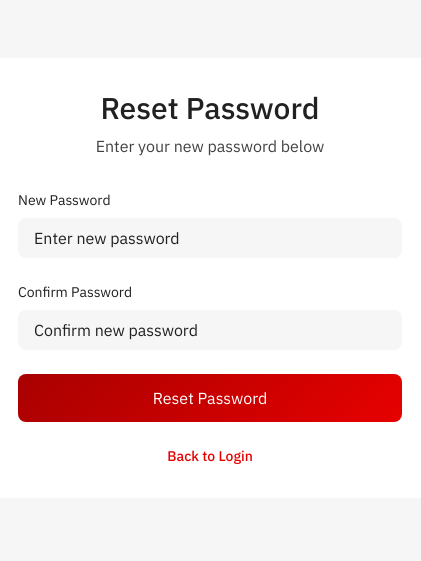
it: ResetPasswordPage › shows mismatch validation error when passwords do not match
Type "Validpass123!" into the password field with test id "new-password-input".
click(210, 238); type("Validpass123!")  # box [18,218,402,258]
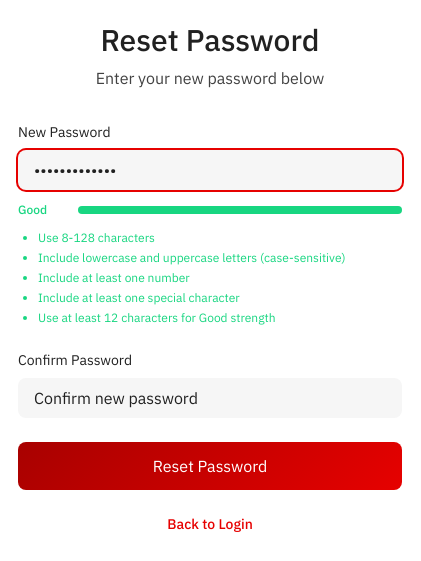
Type "Differentpass123!" into the password field with test id "confirm-password-input".
click(210, 398); type("Differentpass123!")  # box [18,378,402,418]
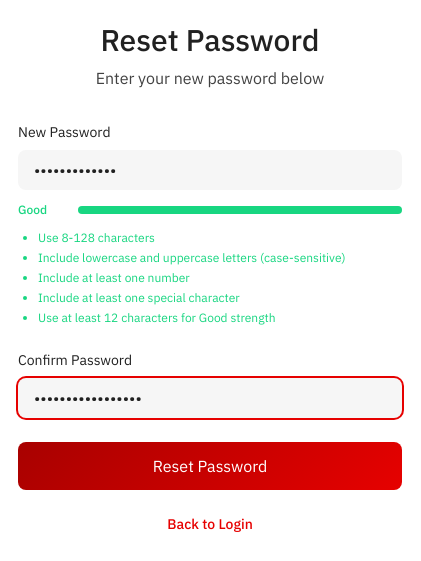
Click the button with test id "reset-password-submit-button".
click(210, 466)  # box [18,442,402,490]
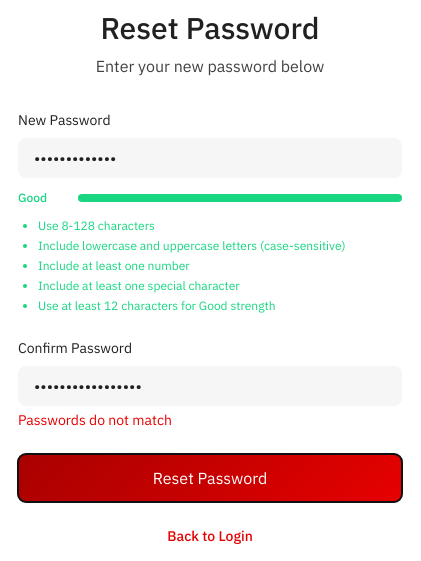
expect the text "Passwords do not match" is shown: met, box [18,411,172,429]
